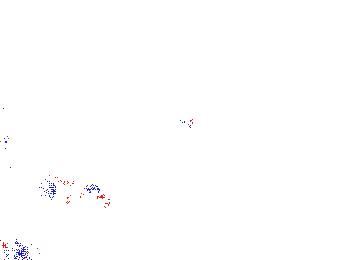red belly glassfish: (48, 175, 114, 215), (179, 111, 199, 133)
